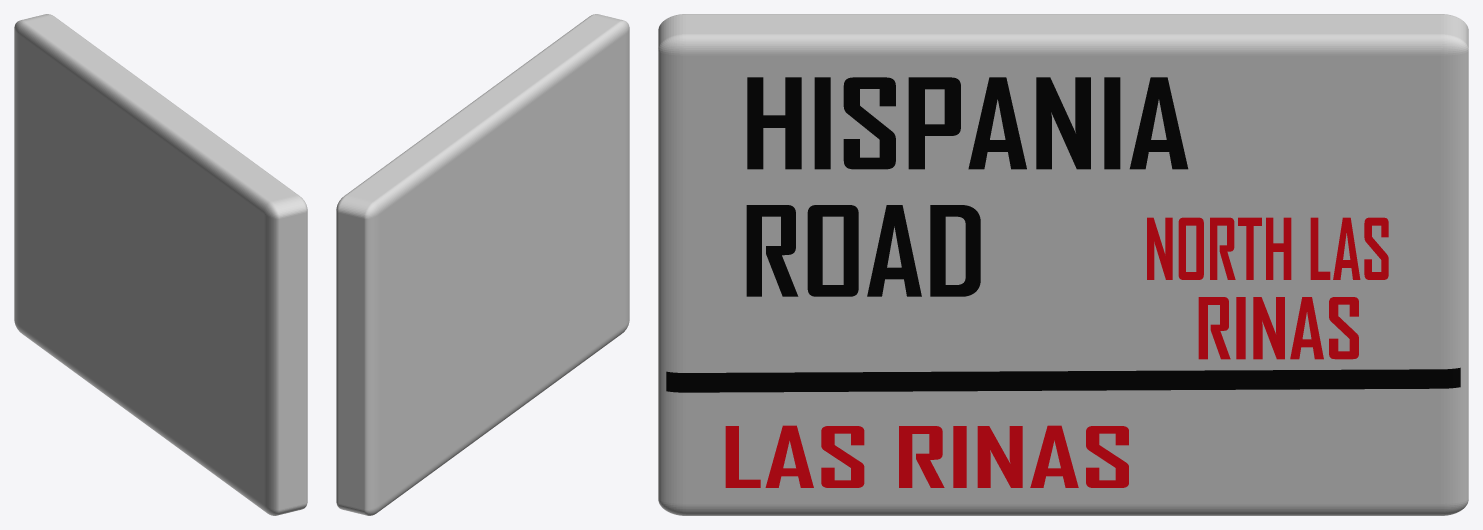
The model's file is uk_styled_street_sign_23.fbx.
3 views of the same model, side by side, from view 1: azimuth 30°, elevation 25°; view 2: azimuth 150°, elevation 25°; view 3: azimuth 270°, elevation 25° (orthographic). The views are drawn at different scales.
Parts seen in each view (by area): view 1: Cube; view 2: Cube; view 3: Cube, Text, Text.002, Text.001, Text.003, Text.004.
Part boxes in pixels (bbox=[...]): Cube: bbox=[14, 14, 307, 515]; Cube: bbox=[336, 14, 629, 515]; Cube: bbox=[658, 14, 1468, 515]; Text: bbox=[747, 77, 1188, 169]; Text.002: bbox=[725, 425, 1128, 487]; Text.001: bbox=[746, 205, 980, 296]; Text.003: bbox=[1147, 217, 1388, 279]; Text.004: bbox=[1198, 297, 1358, 359].
Size of the model in its own units: 1.63 by 11.91 by 18.18.
